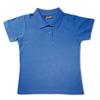abbigliamento_uomo: (4, 8, 96, 91)
